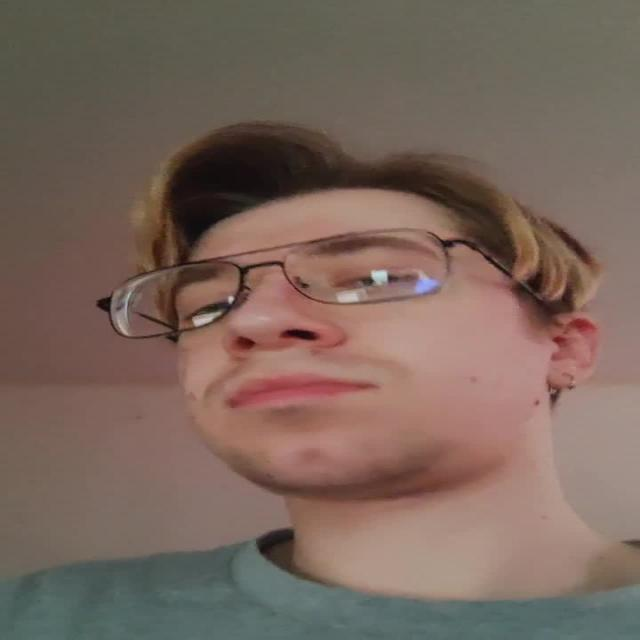earlobe: (547, 312, 605, 389)
